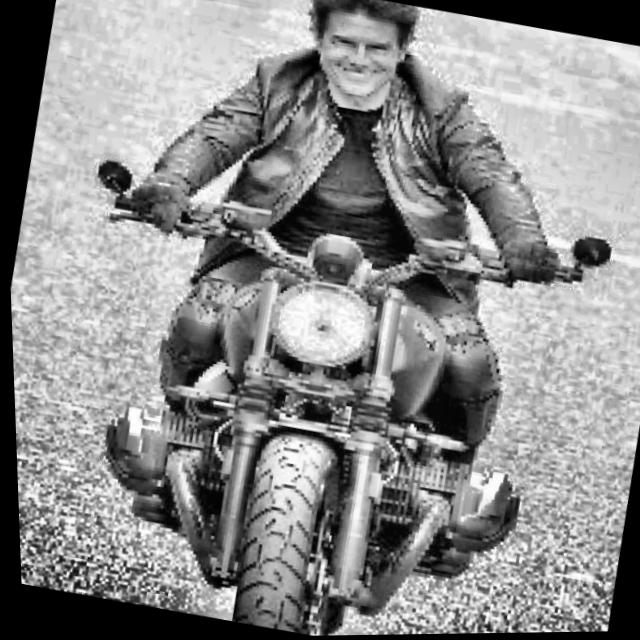motorcycle: (4, 125, 640, 640)
